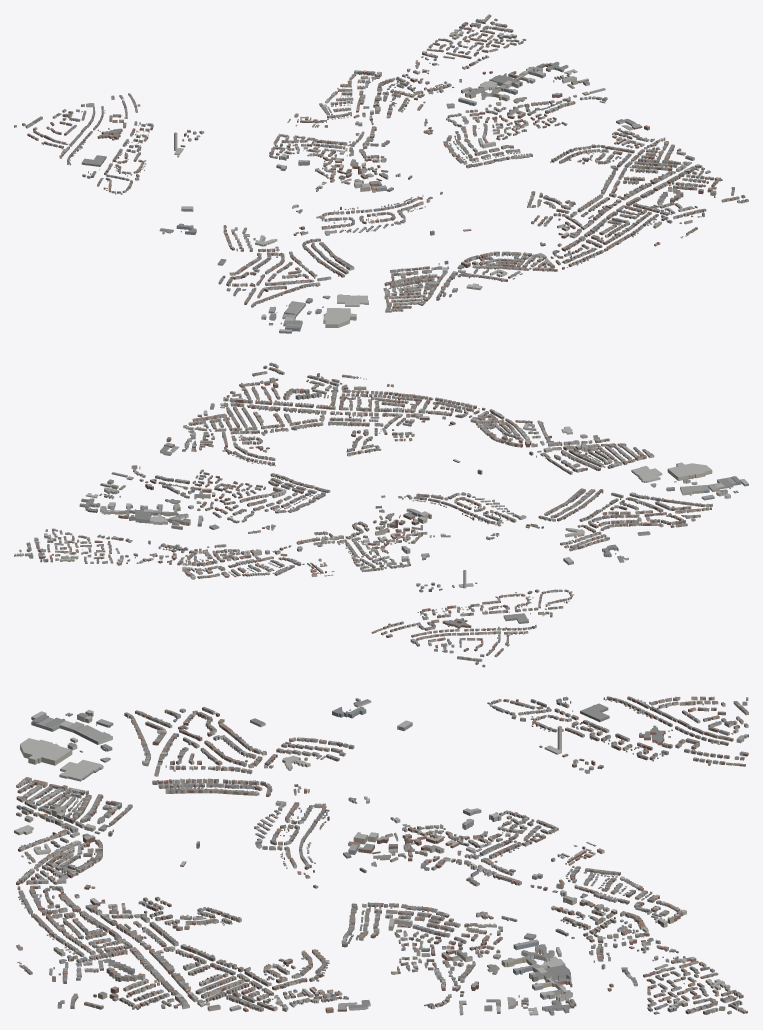
File: buildings_b0_3_3.glb
The picture shows the model from 3 angles, top to bottom: view 1: azimuth 30°, elevation 25°; view 2: azimuth 150°, elevation 25°; view 3: azimuth 270°, elevation 25°; orthographic projection. The views are drawn at different scales.
Visible parts, largest first — view 1: t15_12_buildings_b0, t15_14_buildings_b0, t12_12_buildings_b0, t14_12_buildings_b0, t13_12_buildings_b0, t15_13_buildings_b0, t12_15_buildings_b0, t15_15_buildings_b0, t13_14_buildings_b0, t14_15_buildings_b0, t12_13_buildings_b0, t13_13_buildings_b0 (+3 smaller); view 2: t15_12_buildings_b0, t12_12_buildings_b0, t15_14_buildings_b0, t14_12_buildings_b0, t13_12_buildings_b0, t12_15_buildings_b0, t15_13_buildings_b0, t12_13_buildings_b0, t13_14_buildings_b0, t14_15_buildings_b0, t15_15_buildings_b0, t14_14_buildings_b0 (+3 smaller); view 3: t12_12_buildings_b0, t15_12_buildings_b0, t15_14_buildings_b0, t12_15_buildings_b0, t15_13_buildings_b0, t14_12_buildings_b0, t13_12_buildings_b0, t12_13_buildings_b0, t13_14_buildings_b0, t14_15_buildings_b0, t15_15_buildings_b0, t14_14_buildings_b0 (+3 smaller).
Boxes of the visible parts, x1,y1,x2,y2 form: t15_12_buildings_b0: (590,164,748,246); t15_14_buildings_b0: (458,61,607,139); t12_12_buildings_b0: (226,258,407,333); t14_12_buildings_b0: (463,199,634,271); t13_12_buildings_b0: (383,230,522,308); t15_13_buildings_b0: (512,119,694,187); t12_15_buildings_b0: (14,93,198,176); t15_15_buildings_b0: (407,14,548,94); t13_14_buildings_b0: (269,124,388,191); t14_15_buildings_b0: (319,70,425,122); t12_13_buildings_b0: (159,223,339,284); t13_13_buildings_b0: (292,172,425,253); t15_12_buildings_b0: (223,362,393,427); t12_12_buildings_b0: (570,448,748,523); t15_14_buildings_b0: (79,465,260,529); t14_12_buildings_b0: (348,391,511,462); t13_12_buildings_b0: (477,420,636,474); t12_15_buildings_b0: (371,582,552,667); t15_13_buildings_b0: (160,402,307,483); t12_13_buildings_b0: (531,498,687,562); t13_14_buildings_b0: (320,515,450,572); t14_15_buildings_b0: (167,545,311,579); t15_15_buildings_b0: (14,506,188,565); t14_14_buildings_b0: (209,485,367,561); t12_12_buildings_b0: (16,708,202,793); t15_12_buildings_b0: (16,931,201,1009); t15_14_buildings_b0: (391,932,572,1015); t12_15_buildings_b0: (562,696,748,769); t15_13_buildings_b0: (197,934,374,1013); t14_12_buildings_b0: (16,859,201,936); t13_12_buildings_b0: (14,788,199,864); t12_13_buildings_b0: (198,698,371,793); t13_14_buildings_b0: (377,808,564,862); t14_15_buildings_b0: (562,861,686,944); t15_15_buildings_b0: (556,939,747,1014); t14_14_buildings_b0: (384,857,566,940).
Size of the model in its own units: 2036 by 146 by 2014.
